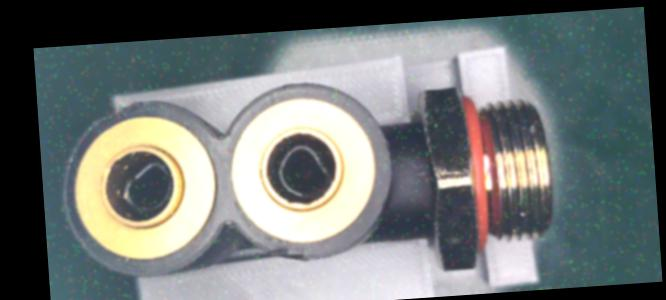off-centered: (273, 141, 338, 203), (113, 156, 179, 216)
white mark: (404, 154, 423, 172)
